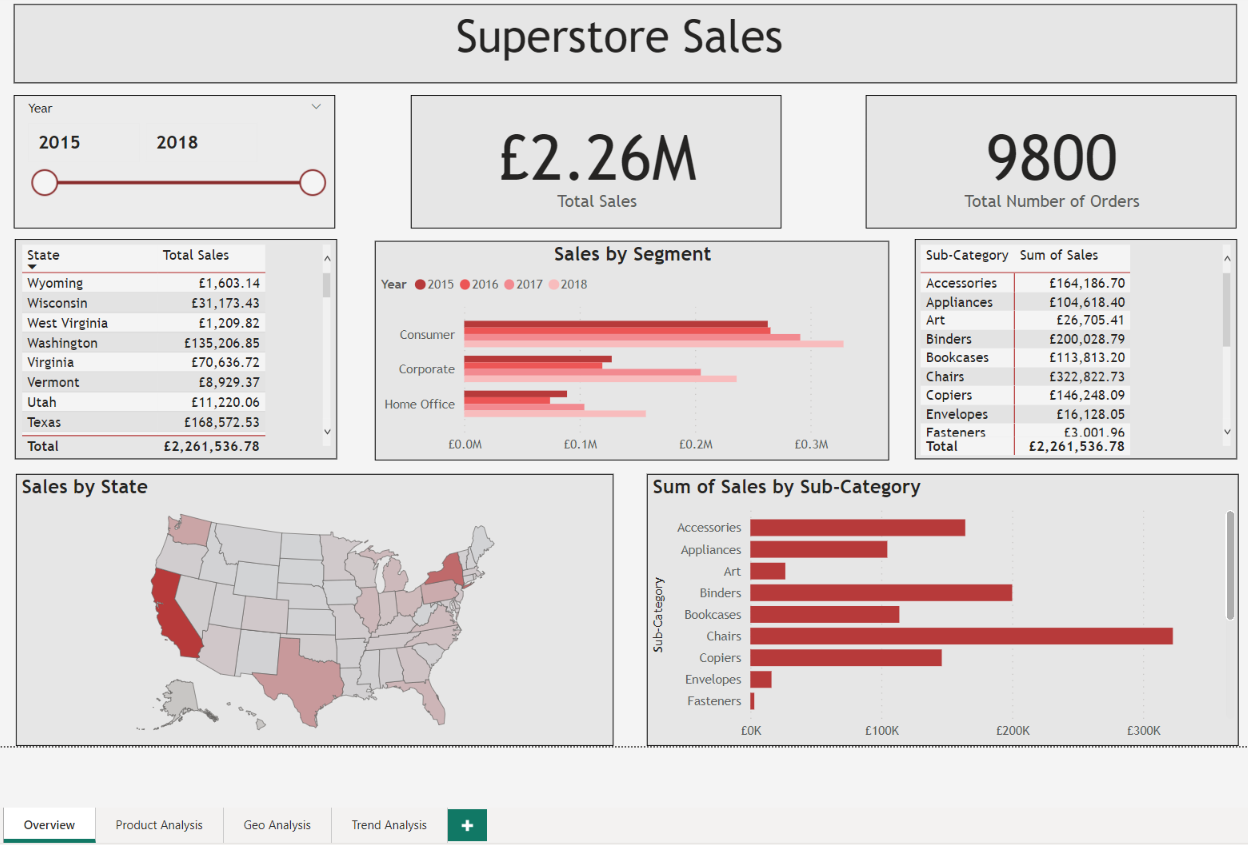

Layout of this report page (visuals, bound fields, positions):
{"tool":"powerbi","page":{"name":"Overview","canvas":[1280,720],"ordinal":0},"visuals":[{"type":"card","fields":{"Values":["Measures_Dim.Total Sales"]},"box":[428.6,95.8,355,127.8],"z":0},{"type":"card","fields":{"Values":["Measures_Dim.Total Number of Orders"]},"box":[864.3,95.8,355,127.8],"z":1000},{"type":"shapeMap","title":"Sales by State","fields":{"Category":["SuperstoreData.State"],"Value":["Measures_Dim.Total Sales"]},"box":[49.8,459.4,573,260.6],"z":2000},{"type":"tableEx","fields":{"Values":["SuperstoreData.State","Measures_Dim.Total Sales"]},"box":[48.4,234.1,308.6,211.4],"z":3000},{"type":"pivotTable","fields":{"Values":["Sum(SuperstoreData.Sales)"],"Rows":["SuperstoreData.Category","SuperstoreData.Sub-Category"]},"box":[911.3,234.1,308.6,211.4],"z":4000},{"type":"clusteredBarChart","fields":{"Category":["SuperstoreData.Category","SuperstoreData.Sub-Category"],"Y":["Sum(SuperstoreData.Sales)"]},"box":[654.5,459.4,567.3,260.6],"z":5000},{"type":"clusteredBarChart","title":"Sales by Segment","fields":{"Category":["SuperstoreData.Segment"],"Y":["Sum(SuperstoreData.Sales)"],"Series":["SuperstoreData.Order Date.Variation.Date Hierarchy.Year"]},"box":[394.1,235.6,492.9,210],"z":6000},{"type":"slicer","fields":{"Values":["SuperstoreData.Order Date.Variation.Date Hierarchy.Year"]},"box":[48,95.8,308,127.8],"z":7000},{"type":"textbox","box":[47.9,8.6,1171.9,75.7],"z":8000}]}

Visuals, with their boxes in screenshot pixels (x1, y1, x2, y2):
card - Measures_Dim.Total Sales: (410,96,777,228)
card - Measures_Dim.Total Number of Orders: (861,96,1228,228)
"Sales by State" shapeMap: (19,472,611,741)
tableEx - SuperstoreData.State x Measures_Dim.Total Sales: (18,239,336,457)
pivotTable - Sum(SuperstoreData.Sales) x SuperstoreData.Category: (909,239,1228,457)
clusteredBarChart - SuperstoreData.Category x SuperstoreData.Sub-Category: (644,472,1230,741)
"Sales by Segment" clusteredBarChart: (375,240,884,457)
slicer - SuperstoreData.Order Date.Variation.Date Hierarchy.Year: (17,96,335,228)
textbox: (17,6,1228,84)
